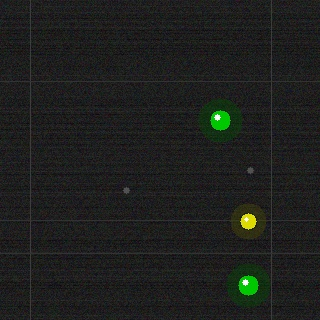green_normal: (208, 108, 232, 132), (236, 273, 260, 297)
yellow_warning: (238, 211, 258, 231)
